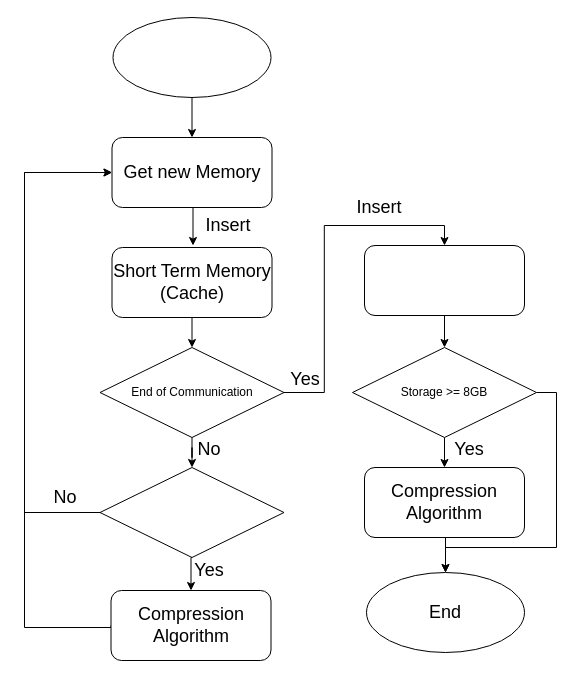
Image size: 582x678. Some labels were removed from this diagram. Each missing label, with the box of its shape:
Long Term Memory (ChromaDB): (364, 244, 524, 316)
Start: (112, 16, 271, 98)
Storage >= 1GB or Token over limited: (99, 466, 284, 558)
